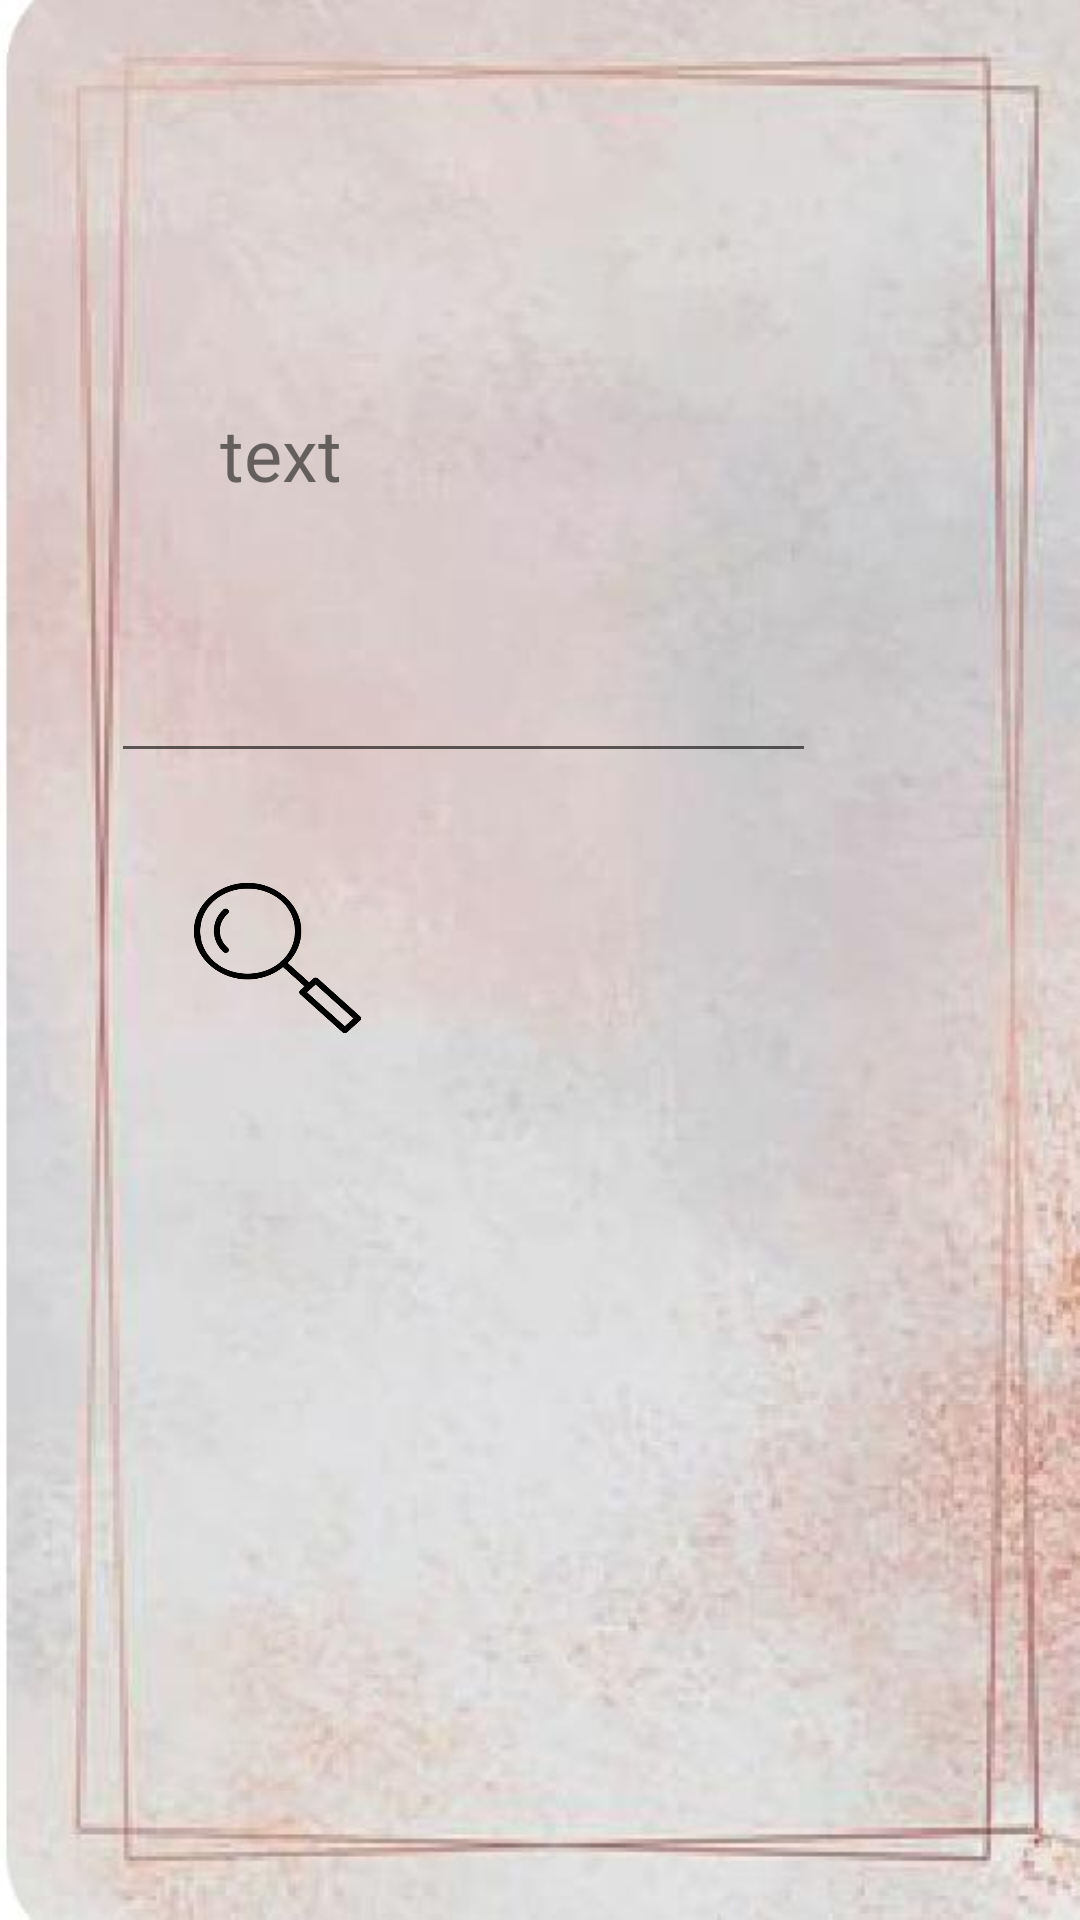

Where to tap for icons on this 1080px×1920px app screen, as [x,y]:
discover: [277,958]
